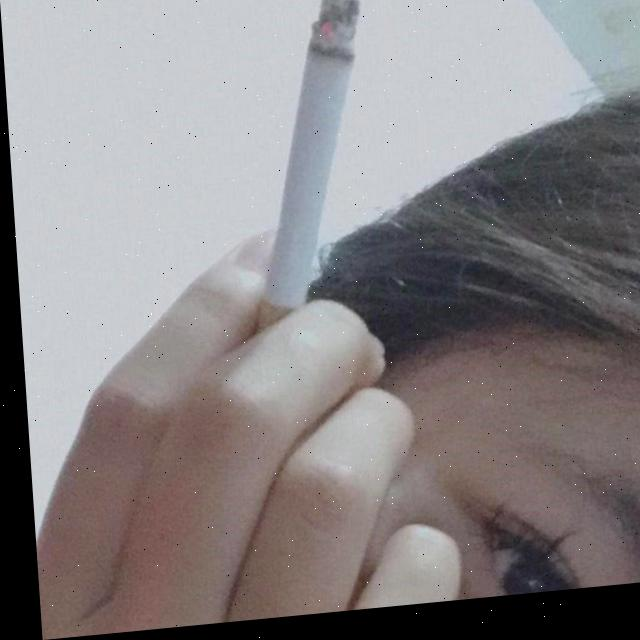cigarette: (231, 0, 378, 338)
